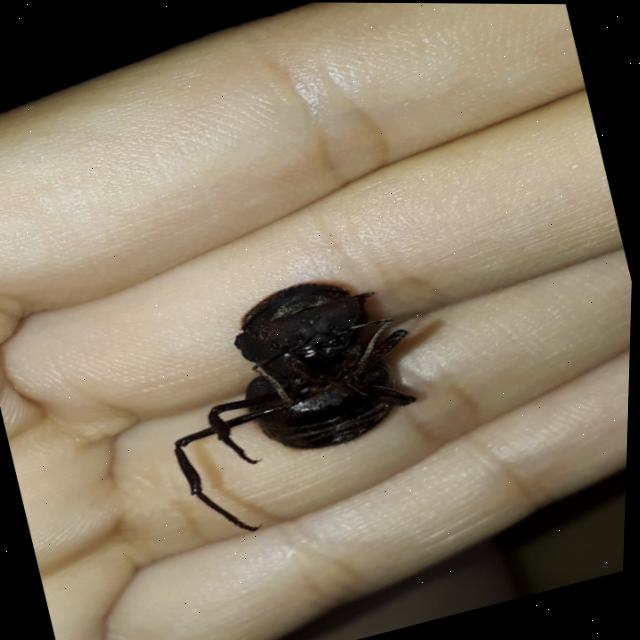Dead-Female-Dealate: (139, 255, 453, 548)
